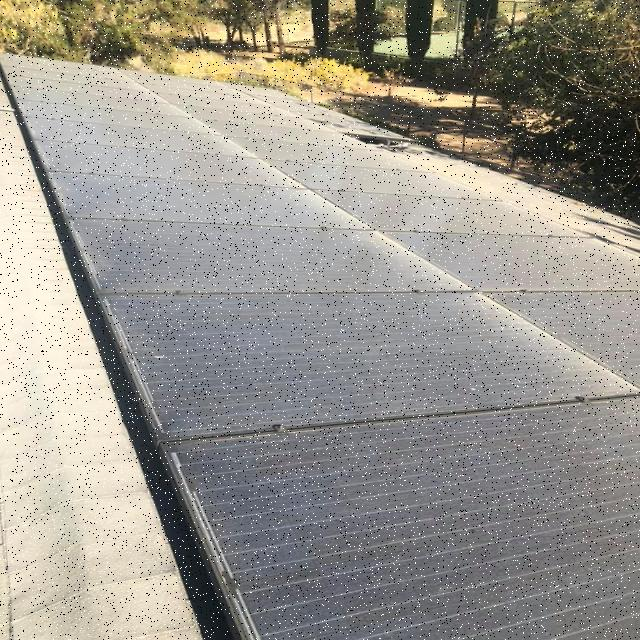dusty: (95, 63, 640, 424)
